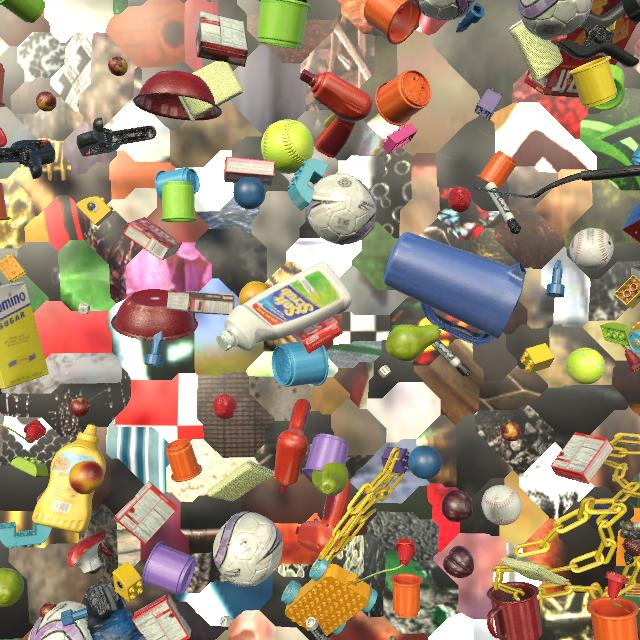ycb_003_cracker_box: (524, 0, 637, 98), (297, 0, 307, 3)
ycb_004_sugar_box: (0, 281, 49, 389)
ycb_006_mustard_bottle: (32, 424, 106, 534)
ycb_008_pudding_box: (195, 11, 249, 67), (166, 292, 235, 315), (630, 264, 640, 280)
ycb_009_gelatin_box: (115, 481, 178, 544), (551, 432, 614, 484), (132, 593, 191, 640), (123, 217, 182, 260), (293, 316, 343, 354), (224, 156, 276, 185), (215, 639, 216, 640)
ycb_010_potted_meat_can: (389, 636, 397, 640)
ycb_012_strawberry: (448, 186, 472, 213), (213, 394, 236, 419)
ycb_015_peach: (69, 460, 104, 495), (239, 281, 270, 305)
ycb_016_pear: (385, 324, 442, 361), (312, 462, 348, 496), (0, 568, 24, 607)
ycb_018_plum: (441, 490, 473, 522), (443, 546, 474, 578)
